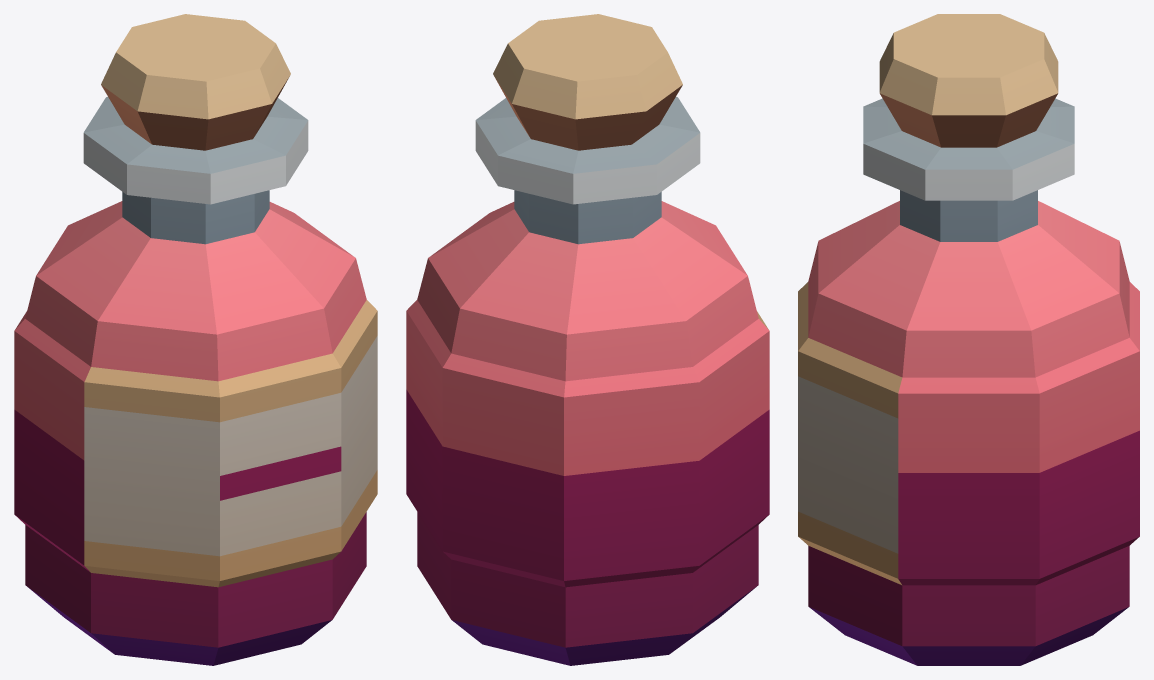
File: source.glb
3 renders of one model, left to right at view 1: azimuth 30°, elevation 25°; view 2: azimuth 150°, elevation 25°; view 3: azimuth 270°, elevation 25°, orthographic.
Parts seen in each view (by area): view 1: model; view 2: model; view 3: model.
Boxes of the visible parts, box(x1,y1,x2,y2) form: model: box(14, 14, 377, 665); model: box(406, 14, 769, 665); model: box(798, 14, 1139, 665).
Size of the model in its own units: 0.48 by 0.88 by 0.48.
Materials: 1 (1 with a texture image).
